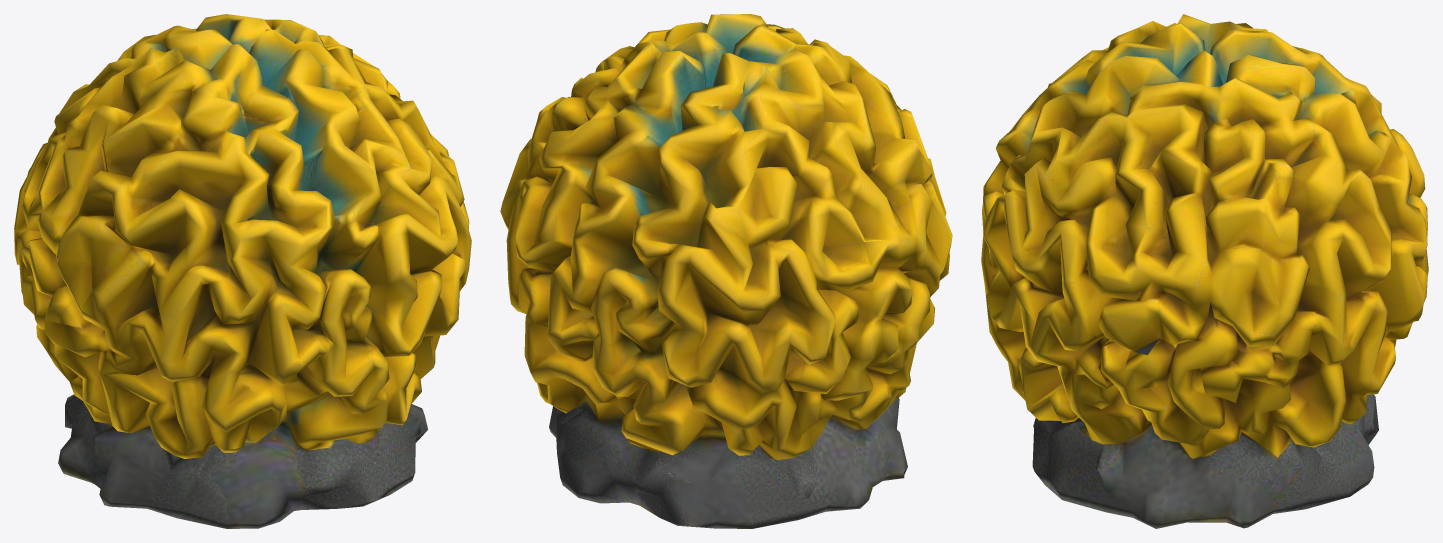
The model's file is coral-brain.glb.
The picture shows the model from 3 angles, left to right: view 1: azimuth 30°, elevation 25°; view 2: azimuth 150°, elevation 25°; view 3: azimuth 270°, elevation 25°; orthographic projection.
Size of the model in its own units: 0.9185 by 0.9536 by 0.9224.
1 material, 1 textured.
